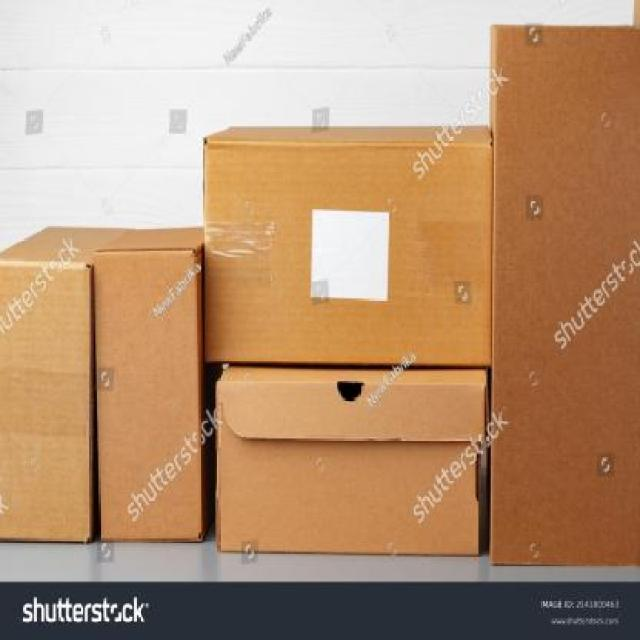BoxFace: (489, 23, 638, 566), (202, 136, 492, 370), (215, 383, 483, 554), (93, 250, 202, 542), (0, 263, 91, 545)
